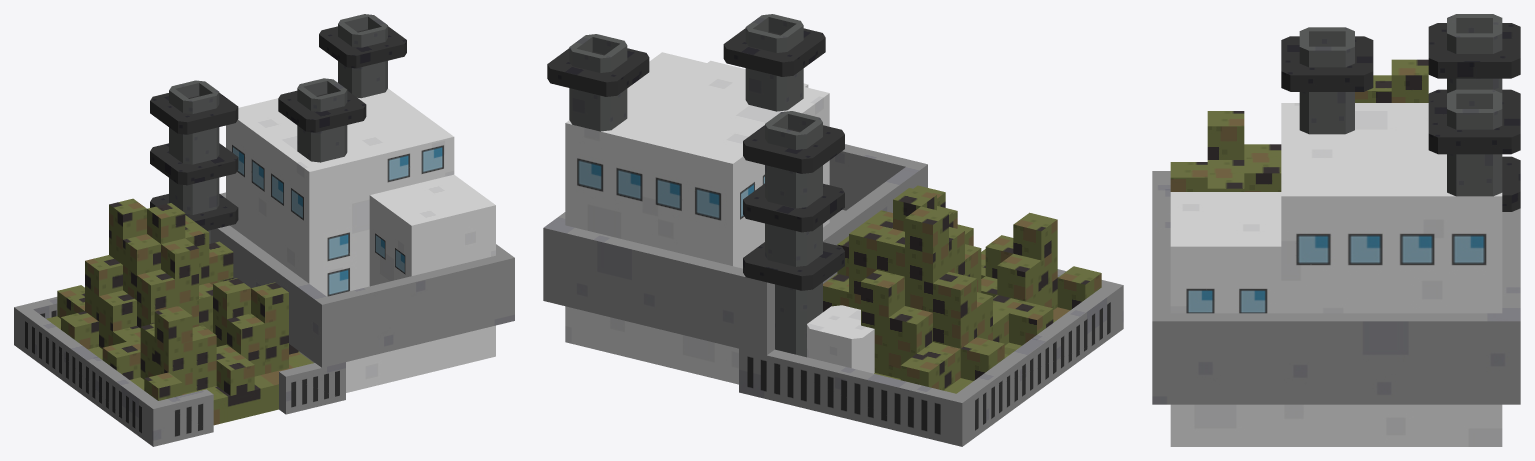
File: C2_Incineration-Plant.FBX
3 renders of one model, left to right at view 1: azimuth 30°, elevation 25°; view 2: azimuth 150°, elevation 25°; view 3: azimuth 270°, elevation 25°, orthographic. The views are drawn at different scales.
Parts seen in each view (by area): view 1: Box002; view 2: Box002; view 3: Box002.
Boxes of the visible parts, left/top/right/bottom form: Box002: left=14, top=14, right=514, bottom=446; Box002: left=543, top=14, right=1123, bottom=446; Box002: left=1152, top=14, right=1520, bottom=446.
Size of the model in its own units: 900 by 600 by 600.
Materials: 1 (1 with a texture image).
